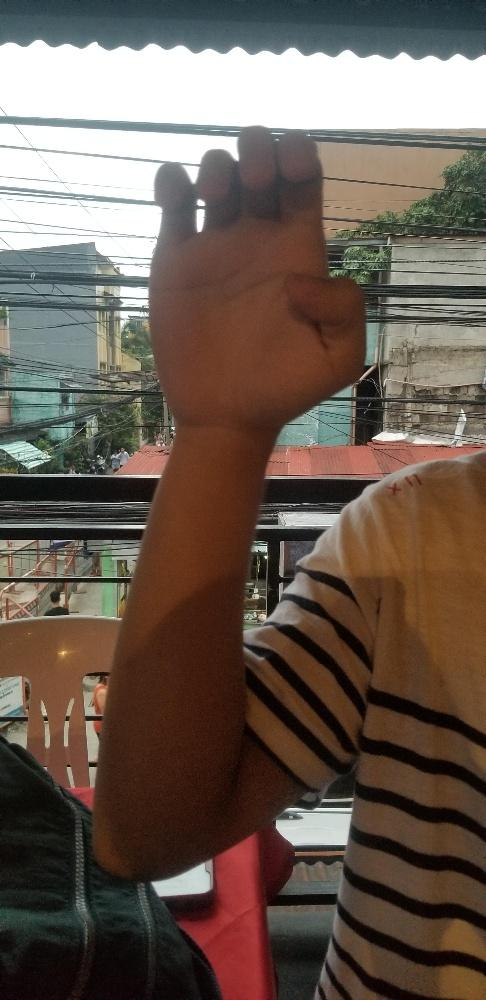e: (149, 124, 367, 423)
